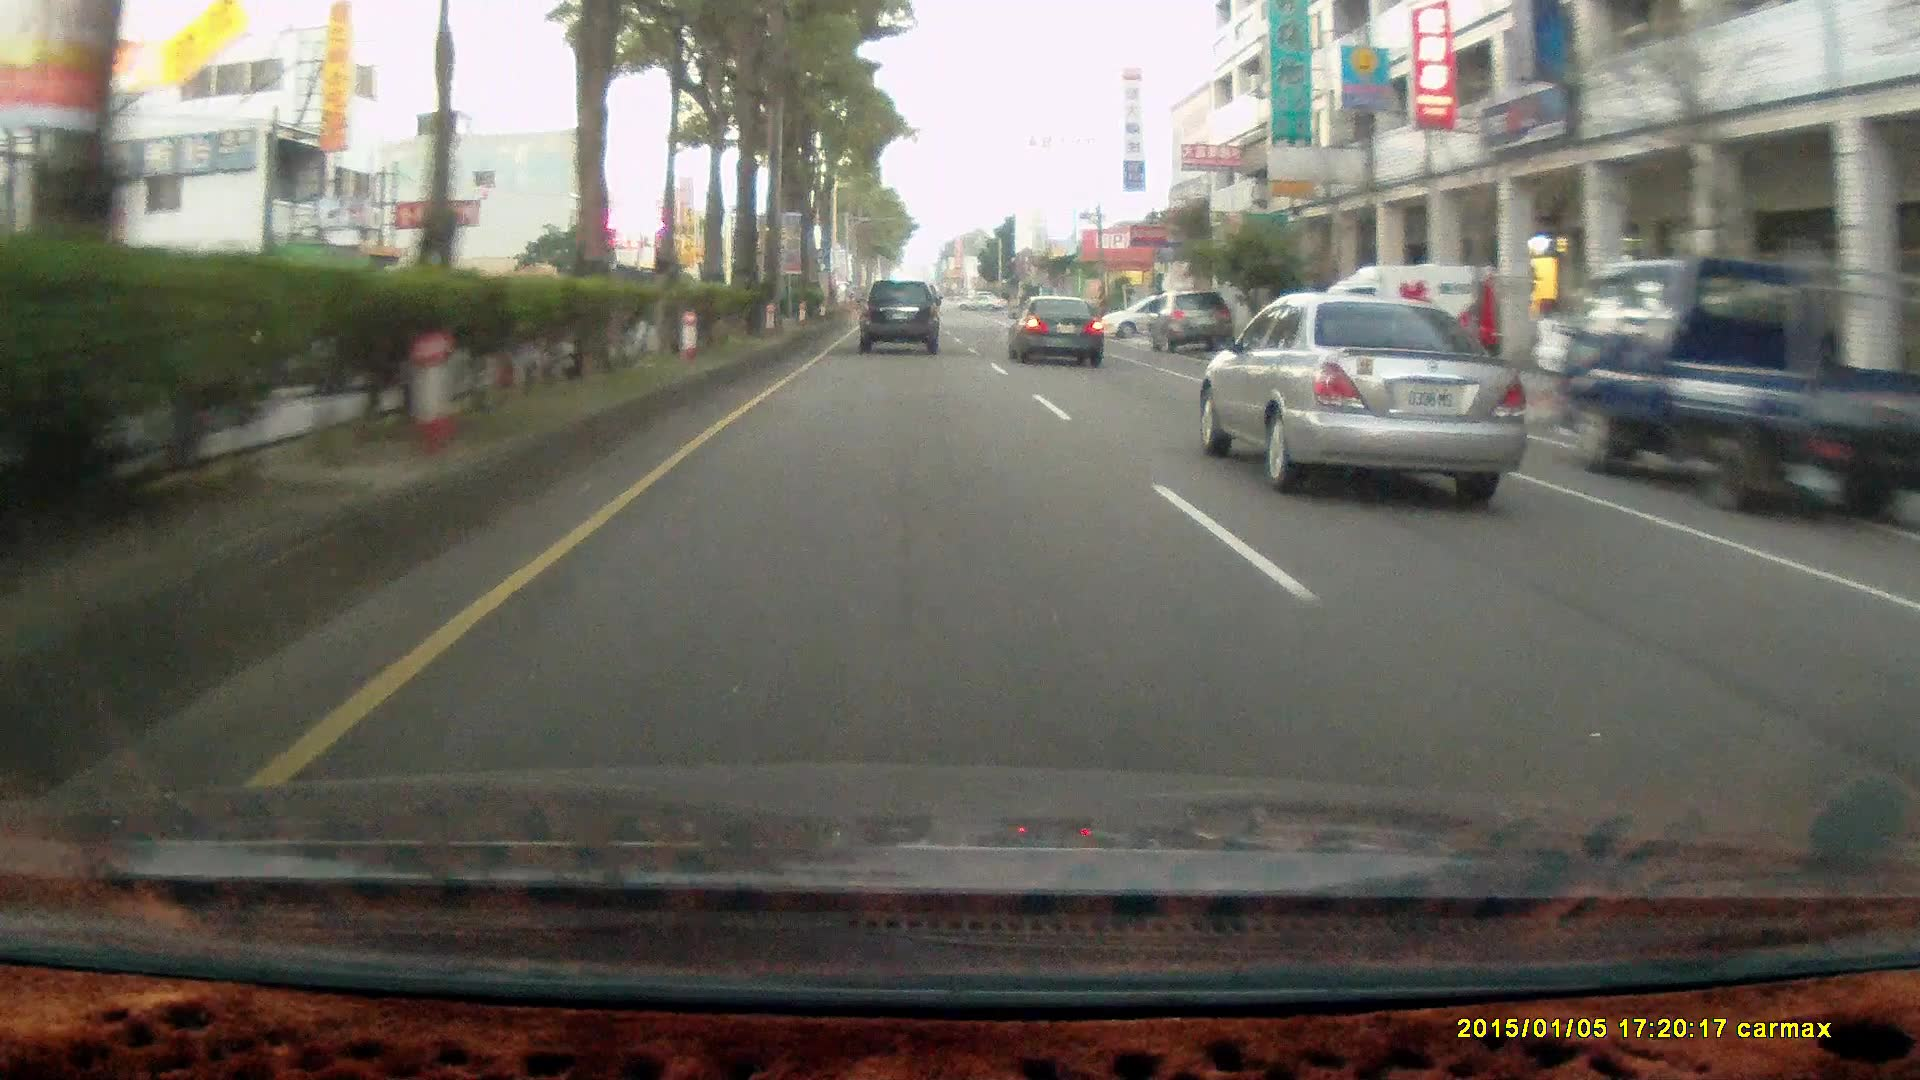vehicle: (1552, 255, 1920, 513), (1560, 255, 1920, 514), (1207, 289, 1534, 492), (1319, 262, 1509, 381), (1313, 262, 1502, 380), (1007, 291, 1108, 367), (1007, 289, 1102, 361), (858, 281, 943, 359), (857, 276, 938, 351), (1153, 289, 1236, 356)
